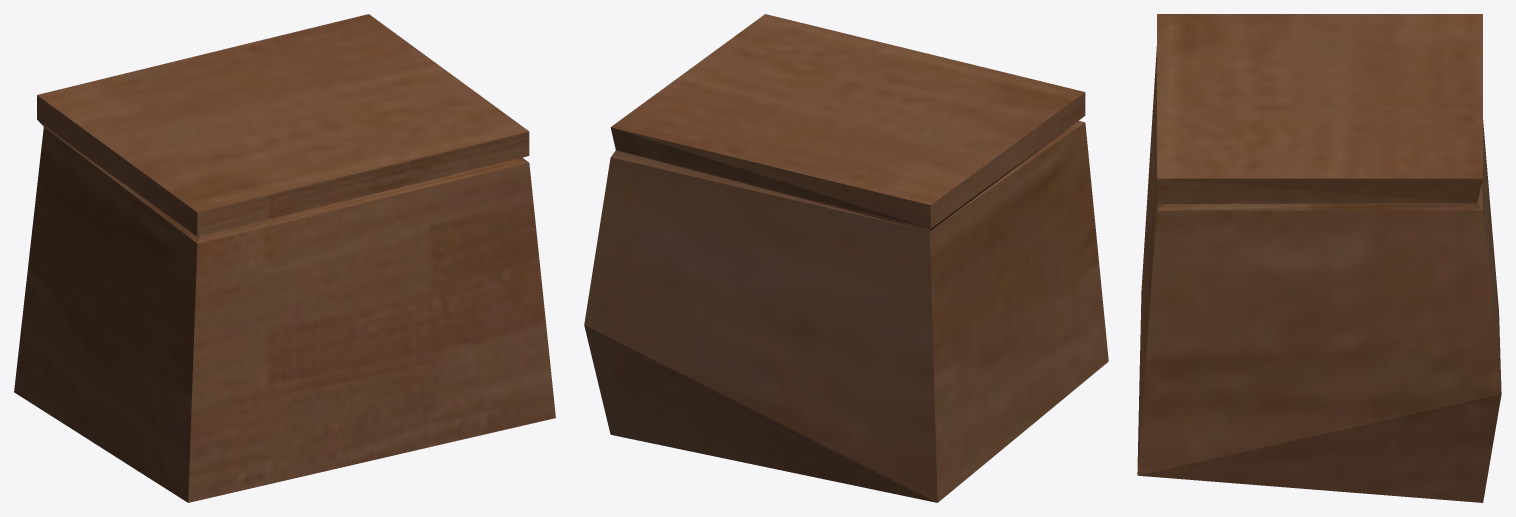
Rendered from basket3.dae.
The picture shows the model from 3 angles, left to right: view 1: azimuth 30°, elevation 25°; view 2: azimuth 150°, elevation 25°; view 3: azimuth 270°, elevation 25°; orthographic projection. The views are drawn at different scales.
Parts seen in each view (by area): view 1: node; view 2: node; view 3: node.
Boxes of the visible parts, box(x1,y1,x2,y2) form: node: box(14, 14, 555, 502); node: box(584, 14, 1108, 502); node: box(1137, 14, 1501, 502).
Size of the model in its own units: 0.4063 by 0.3374 by 0.3434.
1 material, 1 textured.
